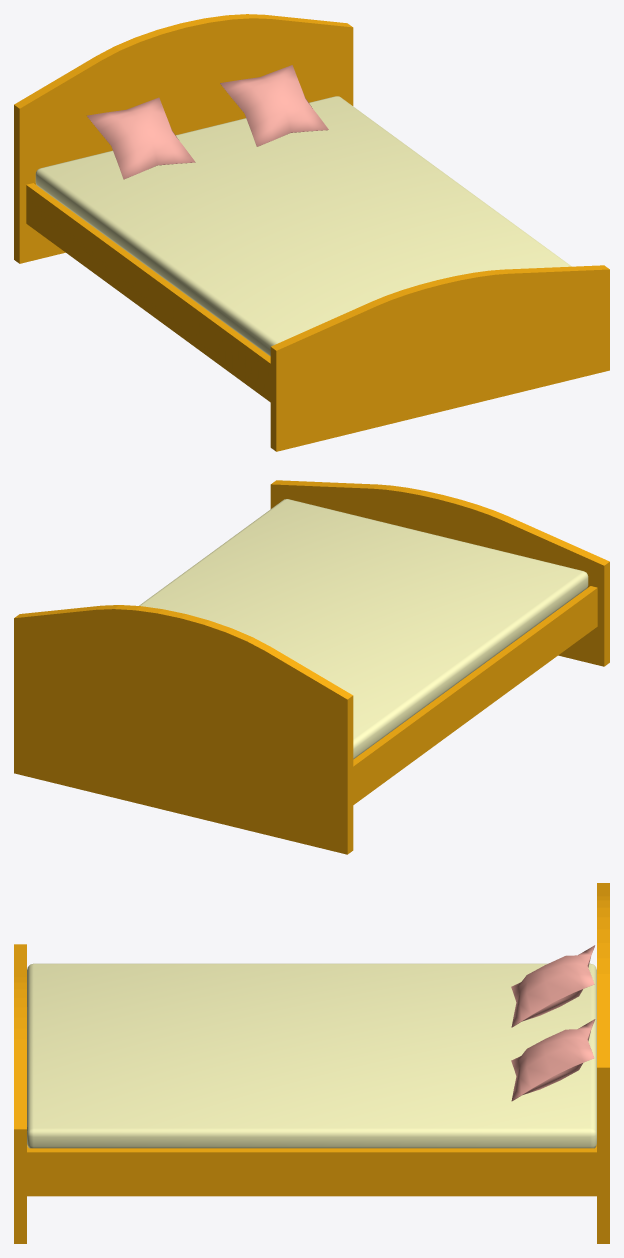
Rendered from Bed.glb.
The picture shows the model from 3 angles, top to bottom: view 1: azimuth 30°, elevation 25°; view 2: azimuth 150°, elevation 25°; view 3: azimuth 270°, elevation 25°; orthographic projection. The views are drawn at different scales.
Parts seen in each view (by area): view 1: Plane.004; view 2: Plane.004; view 3: Plane.004.
Boxes of the visible parts, x1=… form: Plane.004: x1=14, y1=14, x2=609, y2=451; Plane.004: x1=14, y1=480, x2=609, y2=854; Plane.004: x1=14, y1=883, x2=609, y2=1243.
Bounding box in the file's own units: 1.37 × 0.7693 × 1.87.
